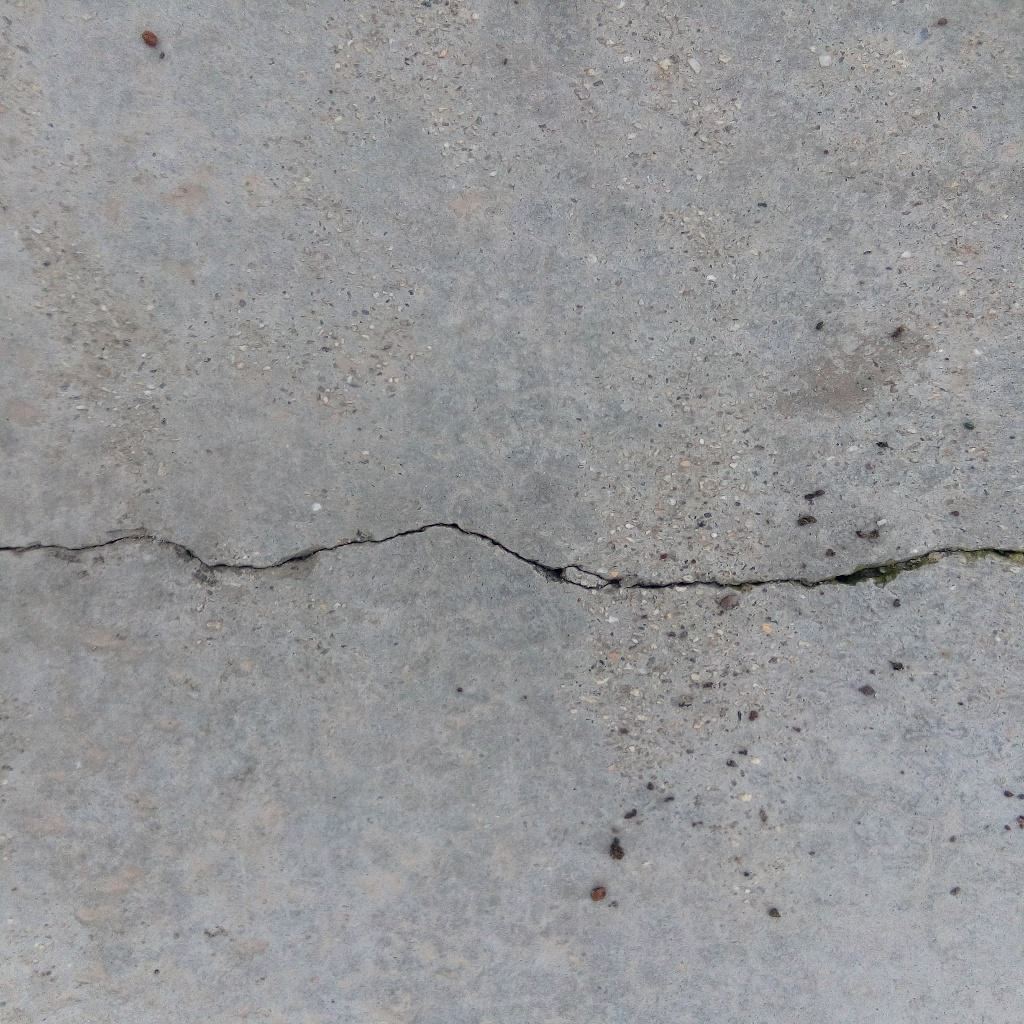Crack: (1, 519, 1024, 594)
